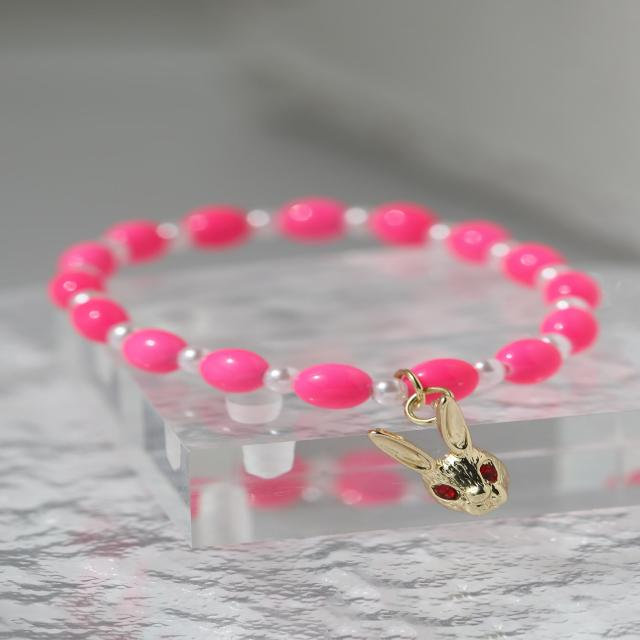bracelet: (34, 141, 640, 596)
